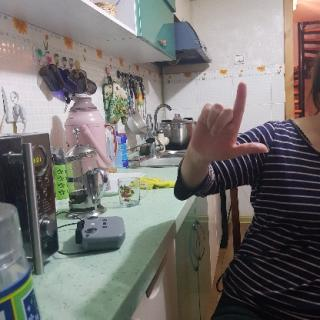LAAM: (182, 80, 270, 170)
